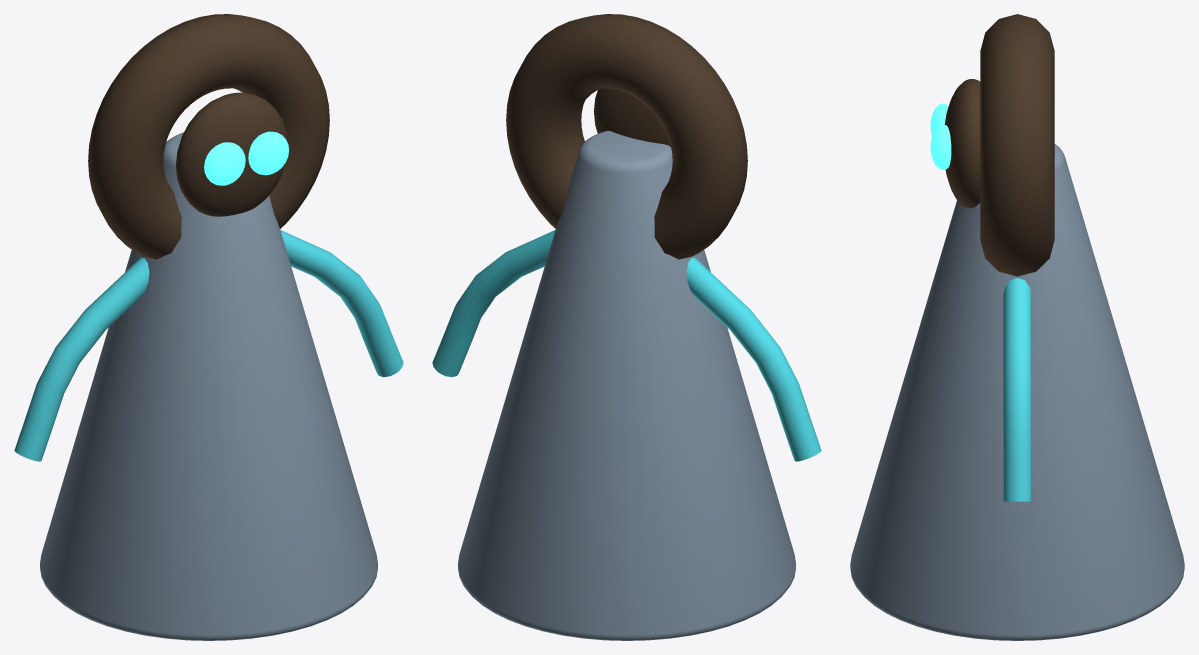
File: wisp_v2.glb
3 views of the same model, side by side, from view 1: azimuth 30°, elevation 25°; view 2: azimuth 150°, elevation 25°; view 3: azimuth 270°, elevation 25° (orthographic).
Parts seen in each view (by area): view 1: SPECTRE_ROBE_PRIMARY, SPECTRE_HOOD_SECONDARY, VOID_FACE_SECONDARY, SPECTRE_ARM_ACCENT, SPECTRE_ARM_ACCENT.001, EYE_EMISSIVE, EYE_EMISSIVE.001; view 2: SPECTRE_ROBE_PRIMARY, SPECTRE_HOOD_SECONDARY, SPECTRE_ARM_ACCENT, SPECTRE_ARM_ACCENT.001, VOID_FACE_SECONDARY; view 3: SPECTRE_ROBE_PRIMARY, SPECTRE_HOOD_SECONDARY, SPECTRE_ARM_ACCENT.001, VOID_FACE_SECONDARY, EYE_EMISSIVE.001.
Part boxes in pixels (x1,y1,x2,y2): SPECTRE_ROBE_PRIMARY: [40, 132, 377, 640]; SPECTRE_HOOD_SECONDARY: [88, 14, 329, 259]; VOID_FACE_SECONDARY: [175, 92, 287, 216]; SPECTRE_ARM_ACCENT: [14, 257, 149, 461]; SPECTRE_ARM_ACCENT.001: [280, 230, 403, 377]; EYE_EMISSIVE: [204, 142, 245, 185]; EYE_EMISSIVE.001: [248, 131, 288, 175]; SPECTRE_ROBE_PRIMARY: [458, 130, 795, 640]; SPECTRE_HOOD_SECONDARY: [506, 14, 747, 259]; SPECTRE_ARM_ACCENT: [686, 257, 821, 461]; SPECTRE_ARM_ACCENT.001: [432, 230, 555, 377]; VOID_FACE_SECONDARY: [593, 88, 670, 146]; SPECTRE_ROBE_PRIMARY: [850, 144, 1184, 640]; SPECTRE_HOOD_SECONDARY: [980, 14, 1054, 276]; SPECTRE_ARM_ACCENT.001: [1003, 278, 1031, 501]; VOID_FACE_SECONDARY: [944, 79, 980, 208]; EYE_EMISSIVE.001: [930, 124, 951, 169].
Size of the model in its own units: 1.74 by 2.39 by 1.33.
